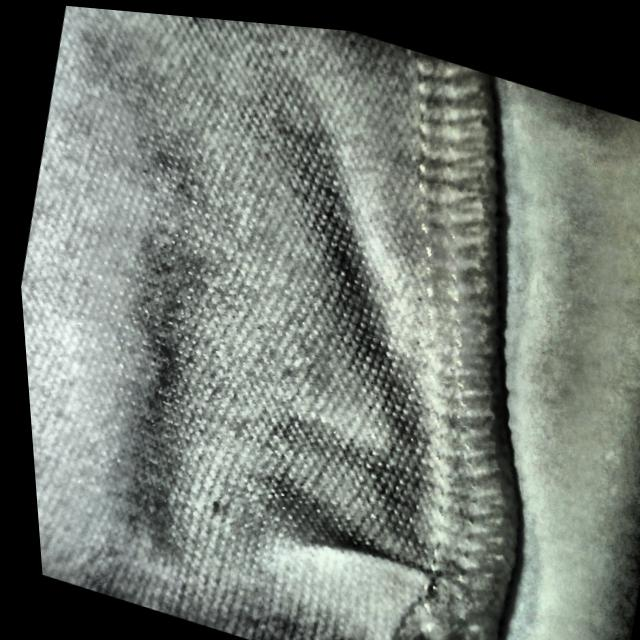seam: (304, 495, 524, 640)
